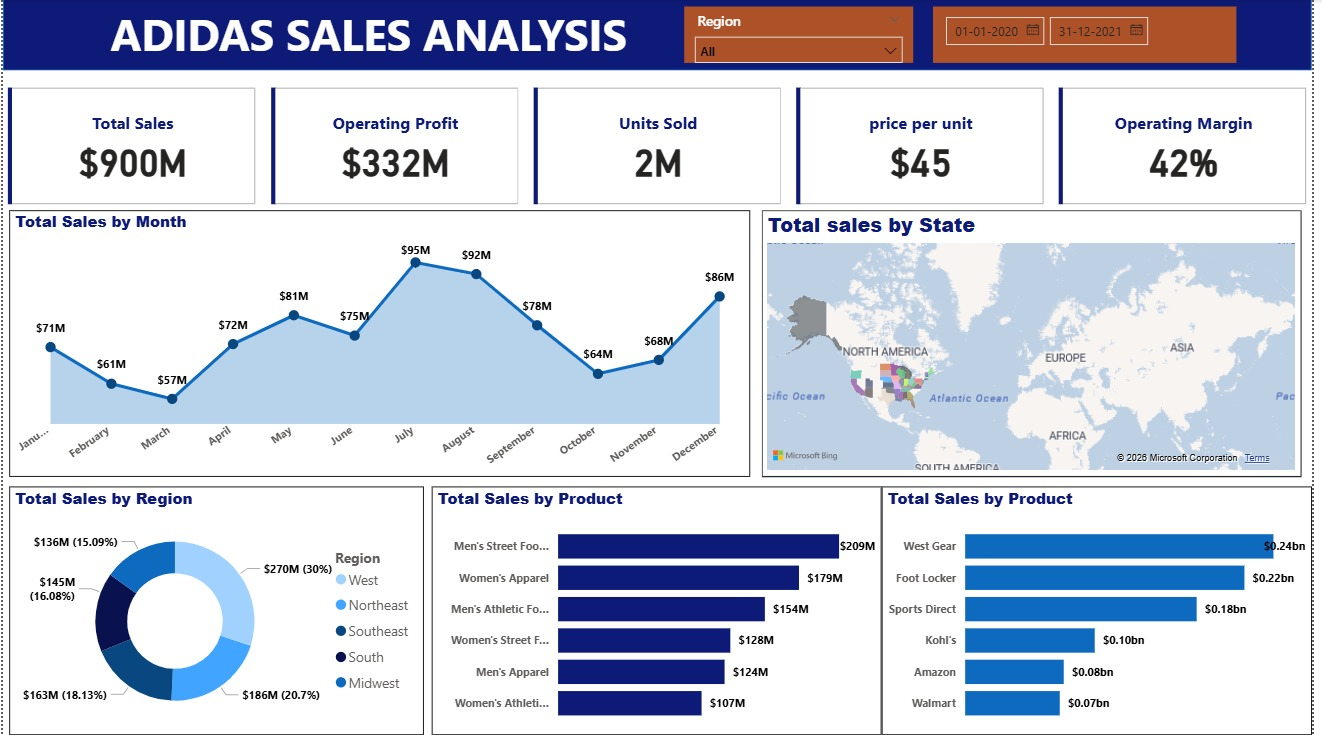

This screenshot's page, from the dashboard's own definition file:
{"tool":"powerbi","page":{"name":"Page 1","canvas":[1280,720],"ordinal":0},"visuals":[{"type":"shape","box":[0,0,1280.3,70],"z":0},{"type":"textbox","box":[100.2,0,539.3,70],"z":1000},{"type":"cardVisual","fields":{"Data":["Sum(Data Sales Adidas.Total Sales)","Sum(Data Sales Adidas.Operating Profit)","Sum(Data Sales Adidas.Units Sold)","Avg(Data Sales Adidas.Price per Unit)","Avg(Data Sales Adidas.Operating Margin)"]},"box":[0,82.3,1280.3,124.9],"z":2000},{"type":"areaChart","title":"Total Sales by Month","fields":{"Category":["Data Sales Adidas.Invoice Date.Variation.Date Hierarchy.Month"],"Y":["Sum(Data Sales Adidas.Total Sales)"]},"box":[6.1,206.7,725.1,260.5],"z":3000},{"type":"filledMap","title":"Total sales by State","fields":{"Category":["Data Sales Adidas.State"],"Series":["Data Sales Adidas.Total Sales"]},"box":[742.3,206.7,528.3,260.5],"z":4000},{"type":"donutChart","title":"Total Sales by Region","fields":{"Category":["Data Sales Adidas.Region"],"Y":["Sum(Data Sales Adidas.Total Sales)"]},"box":[6.1,476.9,406,243.3],"z":5000},{"type":"barChart","title":"Total Sales by Product","fields":{"Category":["Data Sales Adidas.Product"],"Y":["Sum(Data Sales Adidas.Total Sales)"]},"box":[419.4,476.9,440.2,243.3],"z":6000},{"type":"barChart","title":"Total Sales by Product","fields":{"Y":["Sum(Data Sales Adidas.Total Sales)"],"Category":["Data Sales Adidas.Retailer"]},"box":[859.7,476.9,420.7,243.3],"z":7000},{"type":"slicer","fields":{"Values":["Data Sales Adidas.Region"]},"box":[666.4,7.3,223.8,55],"z":7001},{"type":"slicer","fields":{"Values":["Data Sales Adidas.Invoice Date"]},"box":[909.8,7.3,297.1,55],"z":7002}]}

Visuals, with their boxes in screenshot pixels (x1, y1, x2, y2), scaled from the page's 1280x720 canvas onto the 1322x735 screenshot:
shape: 0,0,1321,71
textbox: 103,0,660,71
cardVisual - Sum(Data Sales Adidas.Total Sales) x Sum(Data Sales Adidas.Operating Profit): 0,84,1321,212
"Total Sales by Month" areaChart: 6,211,755,477
"Total sales by State" filledMap: 767,211,1312,477
"Total Sales by Region" donutChart: 6,487,426,734
"Total Sales by Product" barChart: 433,487,888,734
"Total Sales by Product" barChart: 888,487,1321,734
slicer - Data Sales Adidas.Region: 688,7,919,64
slicer - Data Sales Adidas.Invoice Date: 940,7,1247,64
